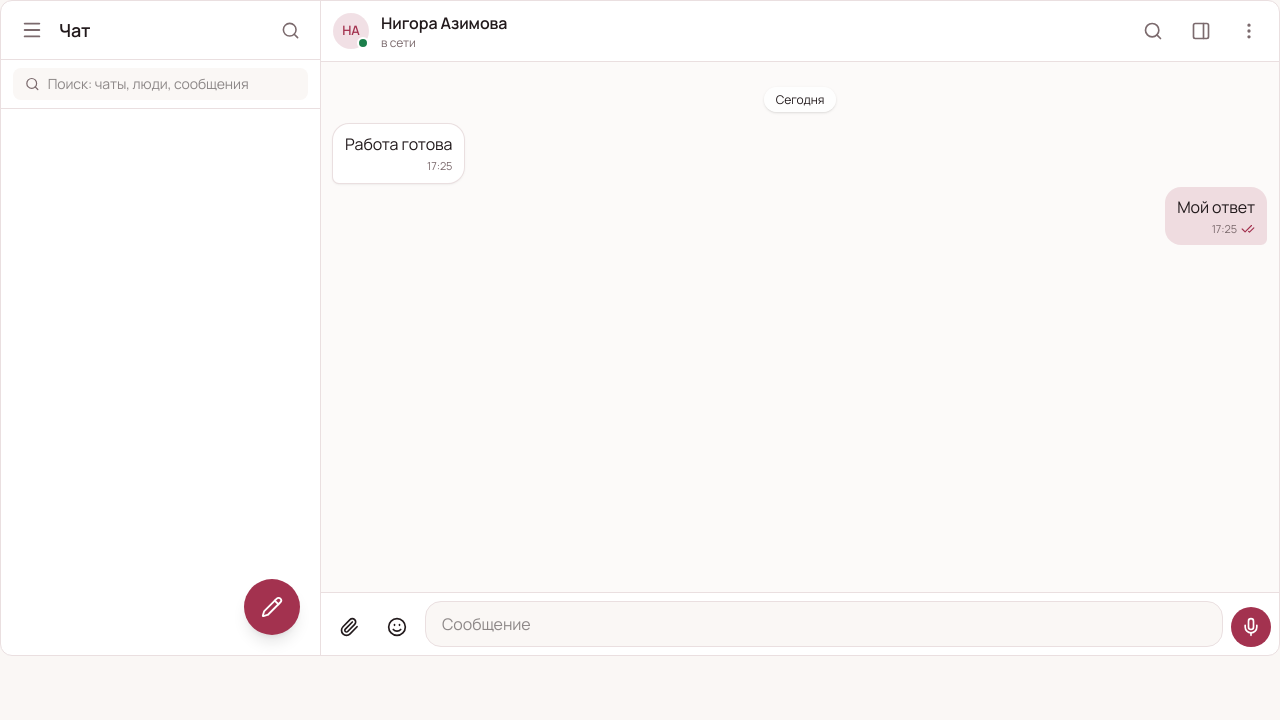
Scenario: «Чат» on the web (panel and worker web share it) › a conversation: messages oldest→newest, ✓✓ when read; Enter sends the text
The width and height of the screenshot is (1280, 720).
Expected: the icon named "Прочитано" is shown, [1241,222,1255,236]
Expected: the text "в сети" is shown, [381,34,416,51]
Type "Завтра в 10" into the text box labelled "Сообщение".
click(824, 624); type("Завтра в 10")  # box [425,601,1223,647]
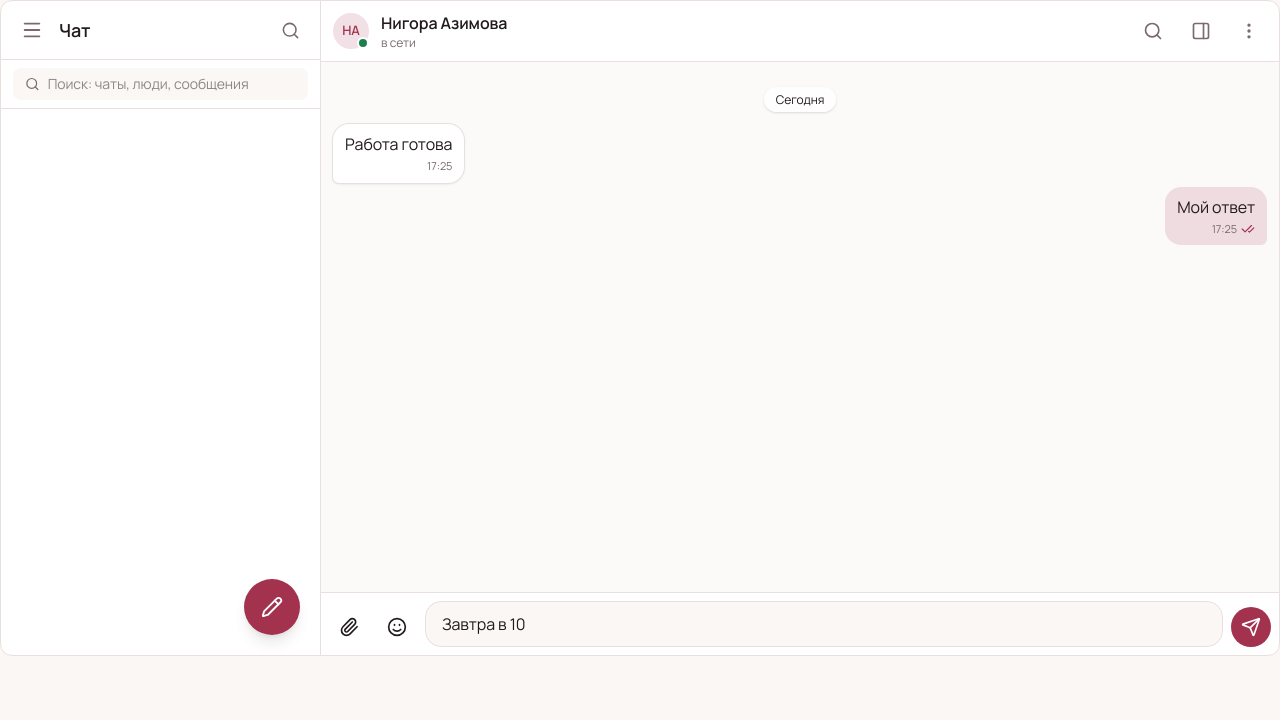
Press Enter in the text box named "Сообщение", box [425,601,1223,647]
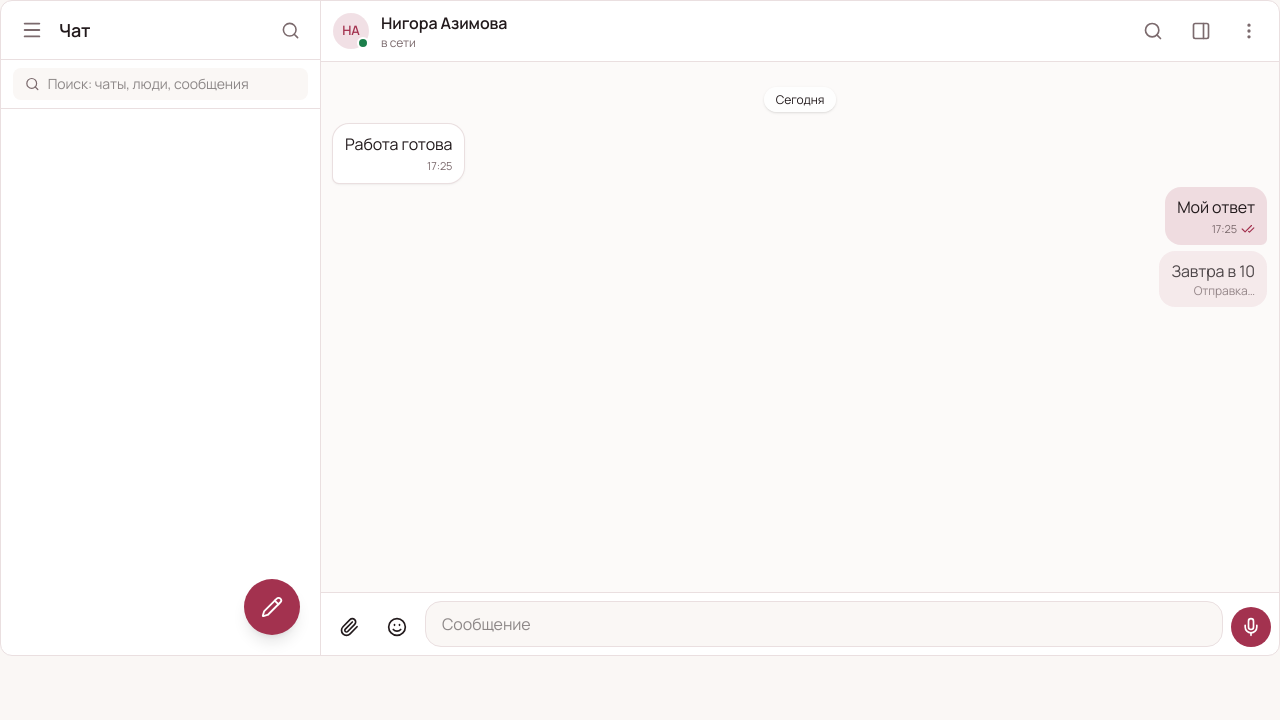
Expected: the text "Завтра в 10" is shown, [1171,259,1255,283]
